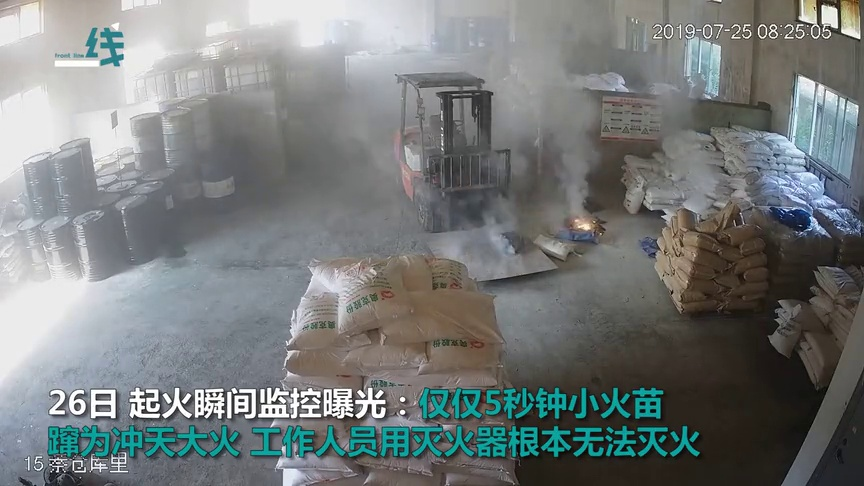smoke: (530, 76, 584, 221), (670, 103, 705, 215)
